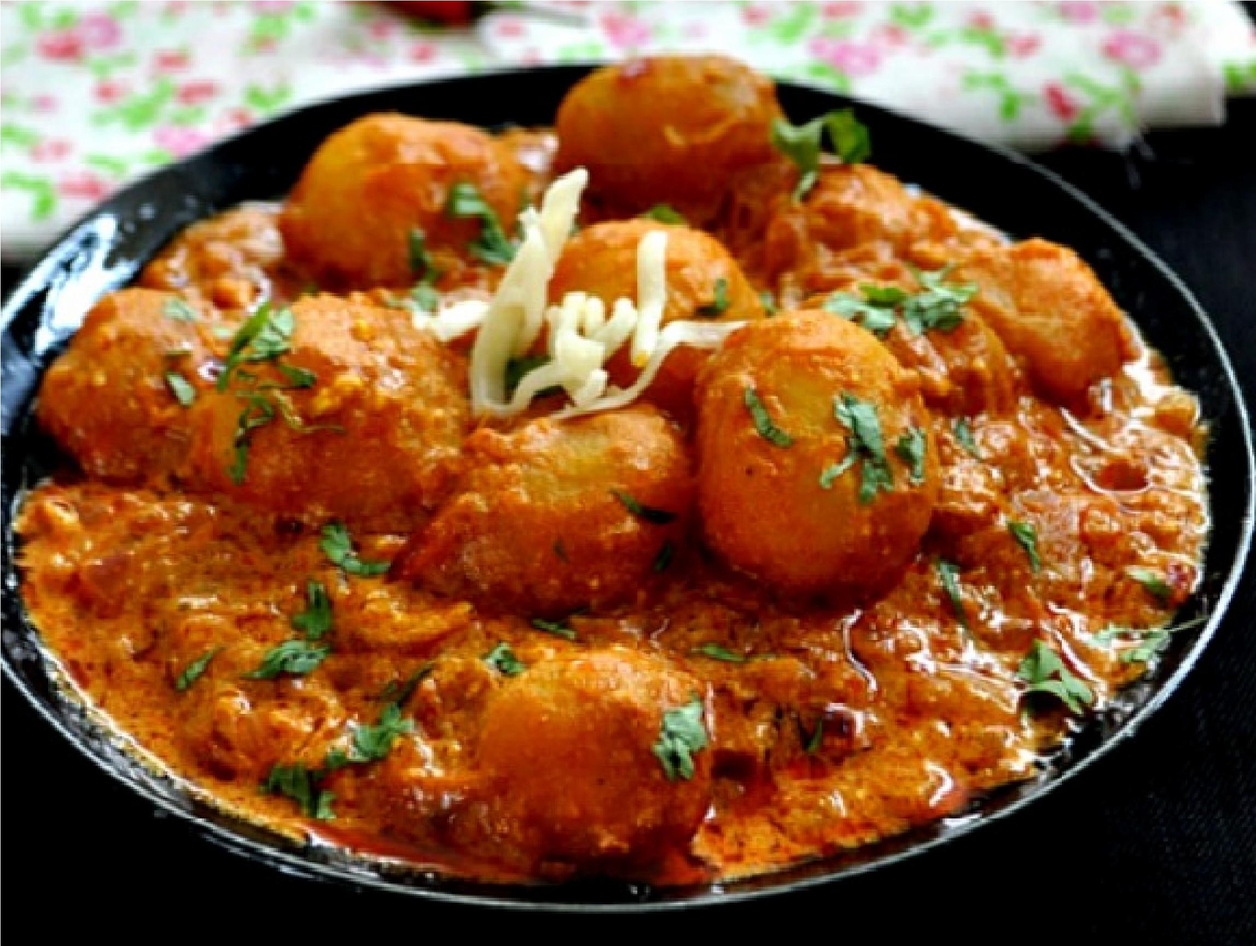DumAloo: (17, 48, 1207, 888)
